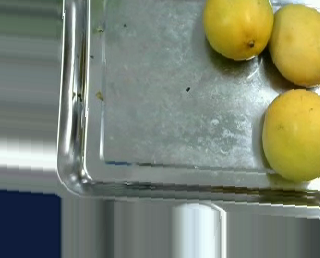Mango: (258, 90, 320, 180), (199, 0, 276, 61), (269, 1, 320, 90)
